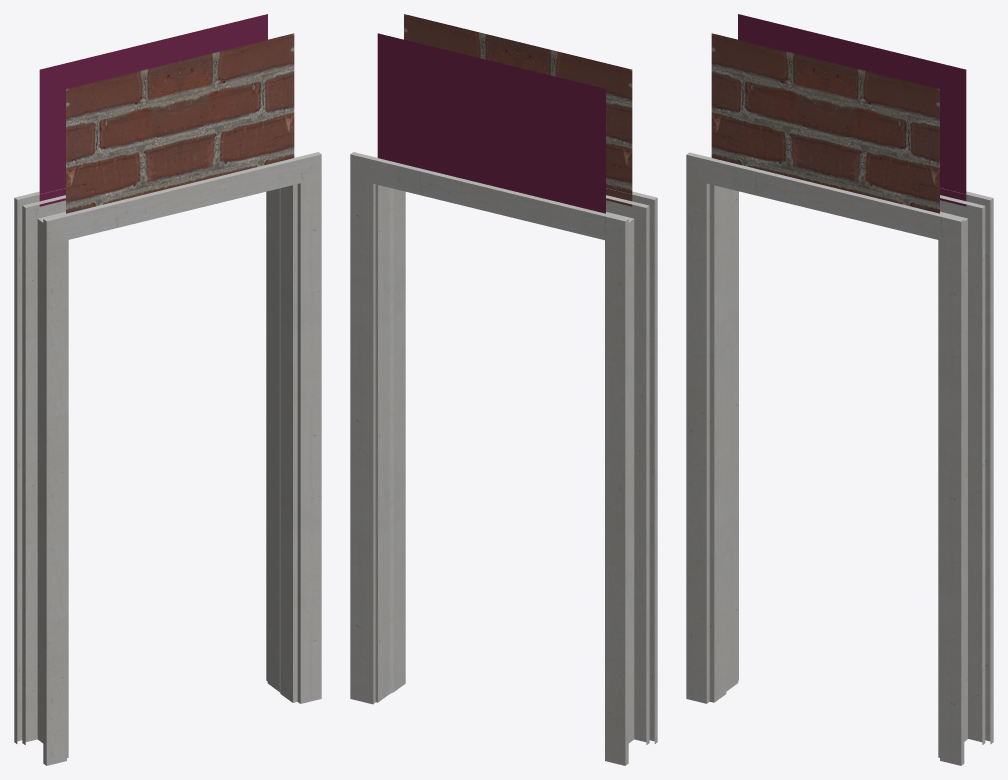
Rendered from MidIn_Door_1x.FBX.
3 renders of one model, left to right at view 1: azimuth 30°, elevation 25°; view 2: azimuth 150°, elevation 25°; view 3: azimuth 330°, elevation 25°, orthographic.
Parts seen in each view (by area): view 1: MidIn_Door_1x; view 2: MidIn_Door_1x; view 3: MidIn_Door_1x.
Part boxes in pixels (x1=…): MidIn_Door_1x: x1=14, y1=14, x2=321, y2=765; MidIn_Door_1x: x1=350, y1=14, x2=657, y2=765; MidIn_Door_1x: x1=686, y1=14, x2=993, y2=765.
Bounding box in the file's own units: 121 × 280 × 24.63.
